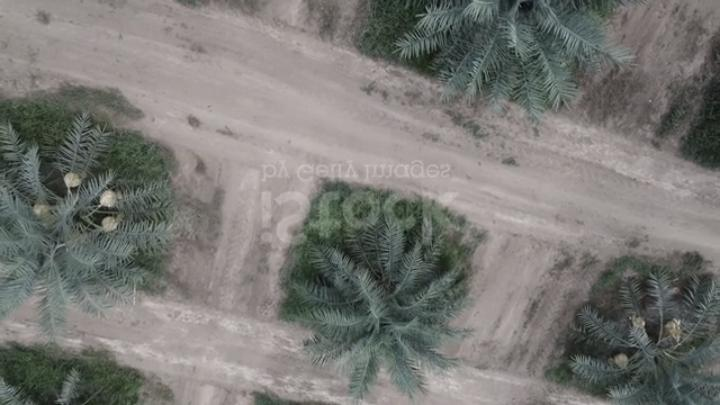Date-Palm-Crown: (0, 175, 126, 301), (440, 0, 592, 88), (594, 301, 720, 405), (326, 256, 432, 360)
